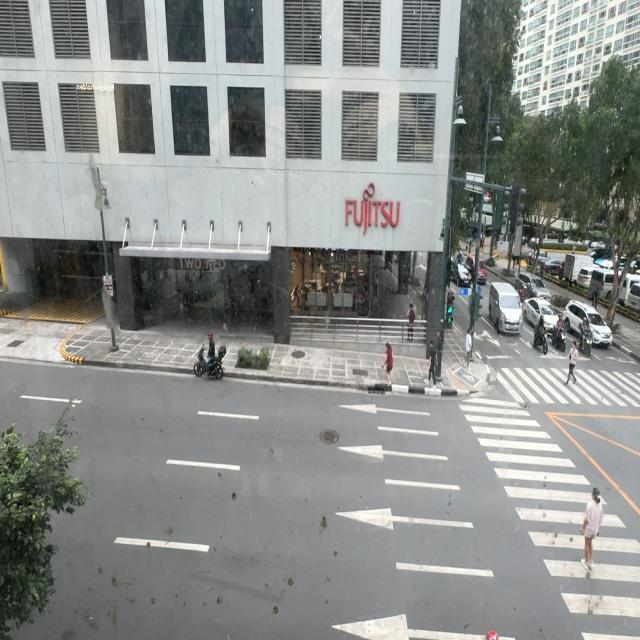jaywalking: (379, 342, 391, 389)
waiting: (465, 326, 473, 368)
